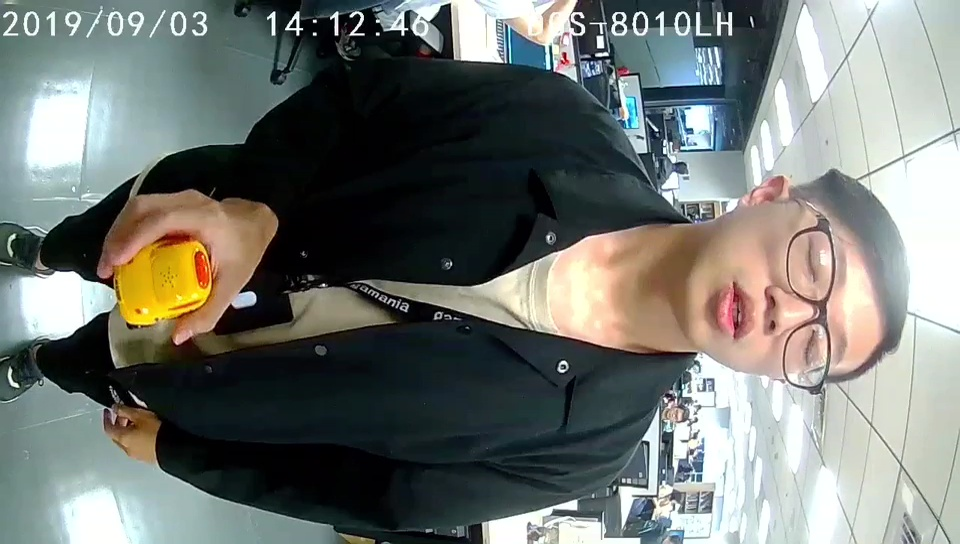car: (113, 235, 213, 328)
